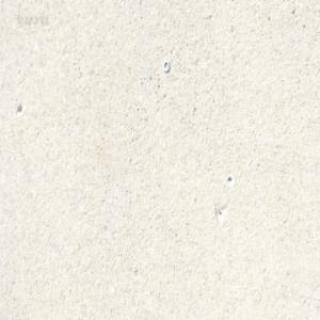Washertrack_idkeyframe: (162, 58, 169, 72)
